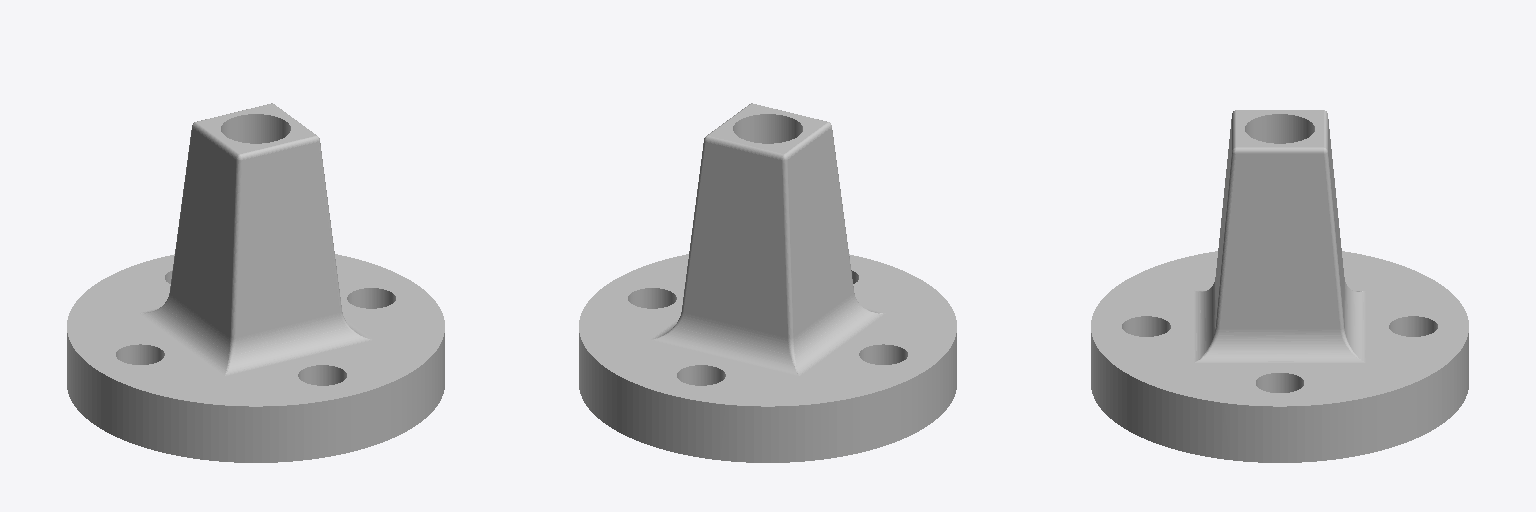
File: Prints_motor_link.obj
3 views of the same model, side by side, from view 1: azimuth 30°, elevation 25°; view 2: azimuth 150°, elevation 25°; view 3: azimuth 270°, elevation 25° (orthographic).
Visible parts, largest first — view 1: motor_link; view 2: motor_link; view 3: motor_link.
Part boxes in pixels (x1,y1,x2,y2): motor_link: (67,103,444,462); motor_link: (579,103,956,462); motor_link: (1091,110,1468,462).
Bounding box in the file's own units: 0.017 × 0.0126 × 0.017.